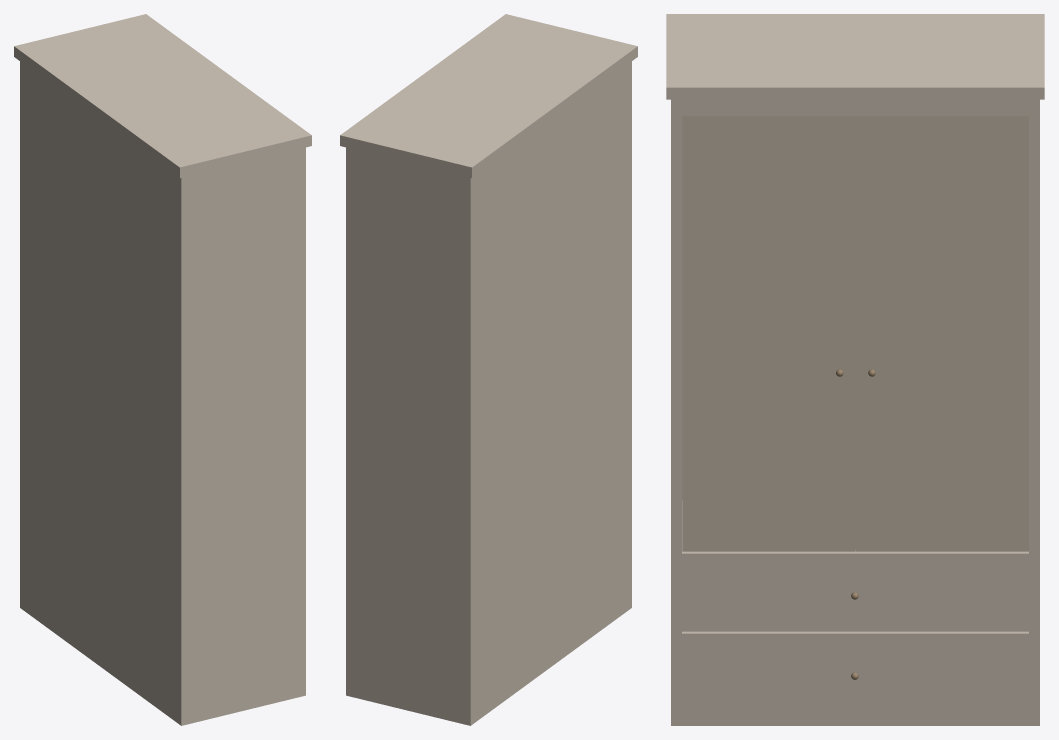
The model's file is Closet.fbx.
3 views of the same model, side by side, from view 1: azimuth 30°, elevation 25°; view 2: azimuth 150°, elevation 25°; view 3: azimuth 270°, elevation 25° (orthographic). The views are drawn at different scales.
Visible parts, largest first — view 1: closet.001; view 2: closet.001; view 3: closet.001.
Part boxes in pixels (<box>): closet.001: <box>14,14,311,725</box>; closet.001: <box>340,14,637,725</box>; closet.001: <box>666,14,1044,725</box>.
Size of the model in its own units: 73.75 by 292 by 156.
